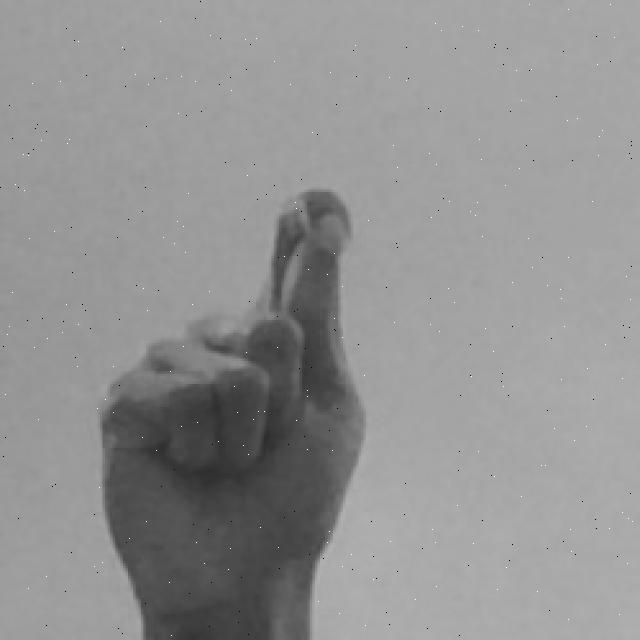T: (87, 184, 373, 640)
